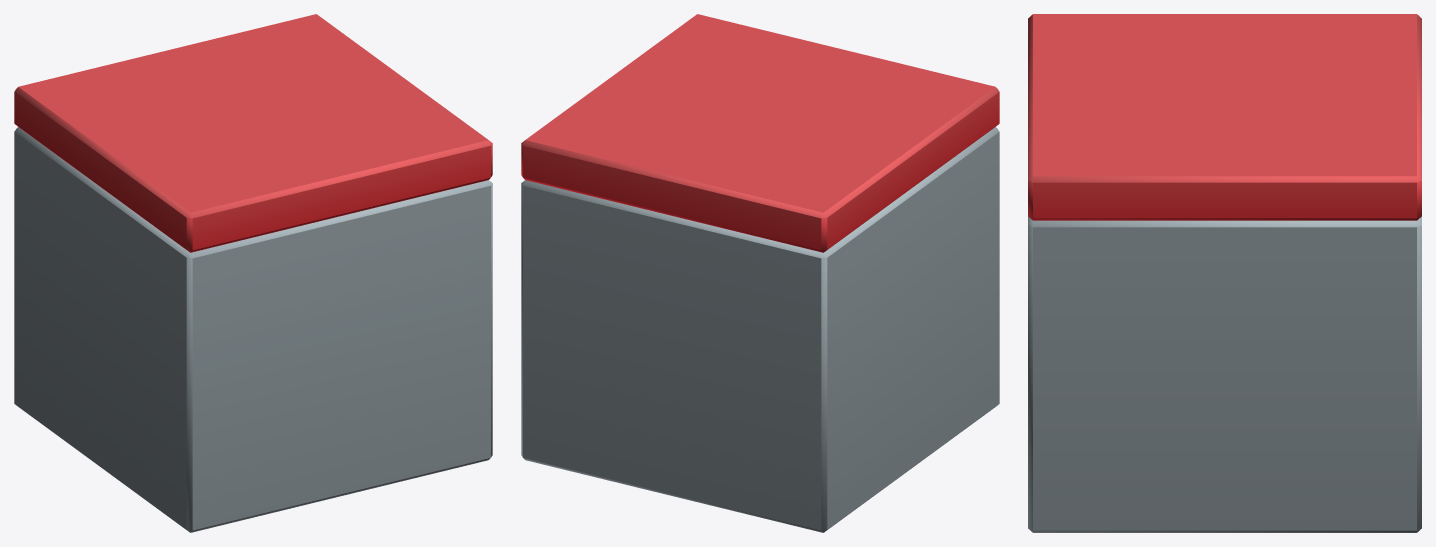
Rendered from platform_4x4x4_red.glb.
The picture shows the model from 3 angles, left to right: view 1: azimuth 30°, elevation 25°; view 2: azimuth 150°, elevation 25°; view 3: azimuth 270°, elevation 25°; orthographic projection. The views are drawn at different scales.
Visible parts, largest first — view 1: platform_4x4x4_red; view 2: platform_4x4x4_red; view 3: platform_4x4x4_red.
Part boxes in pixels (left/top/right/bottom): platform_4x4x4_red: left=14, top=14, right=492, bottom=532; platform_4x4x4_red: left=521, top=14, right=999, bottom=532; platform_4x4x4_red: left=1028, top=14, right=1421, bottom=532.
Size of the model in its own units: 4 by 4 by 4.
Materials: 1 (1 with a texture image).
